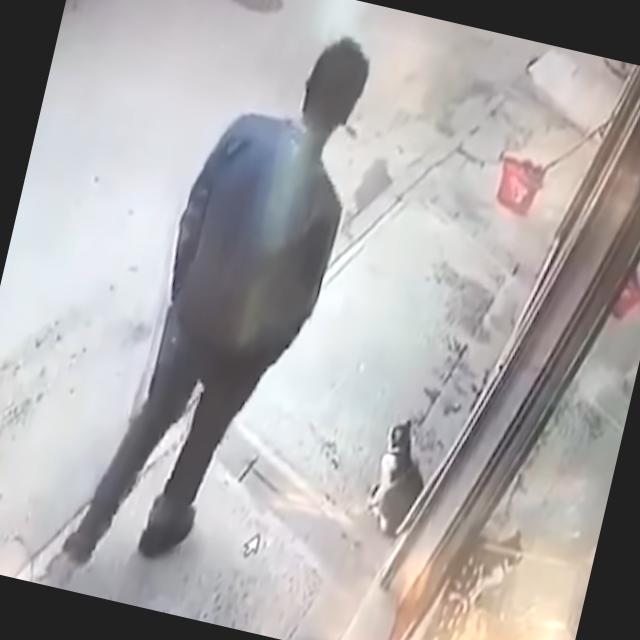person: (44, 0, 382, 625)
